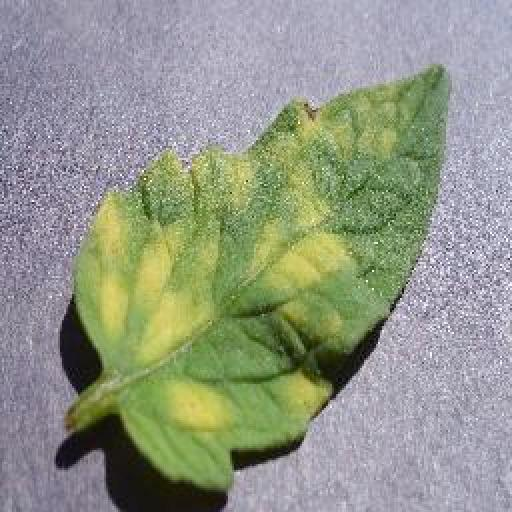disease_tomato: (76, 64, 452, 492)
